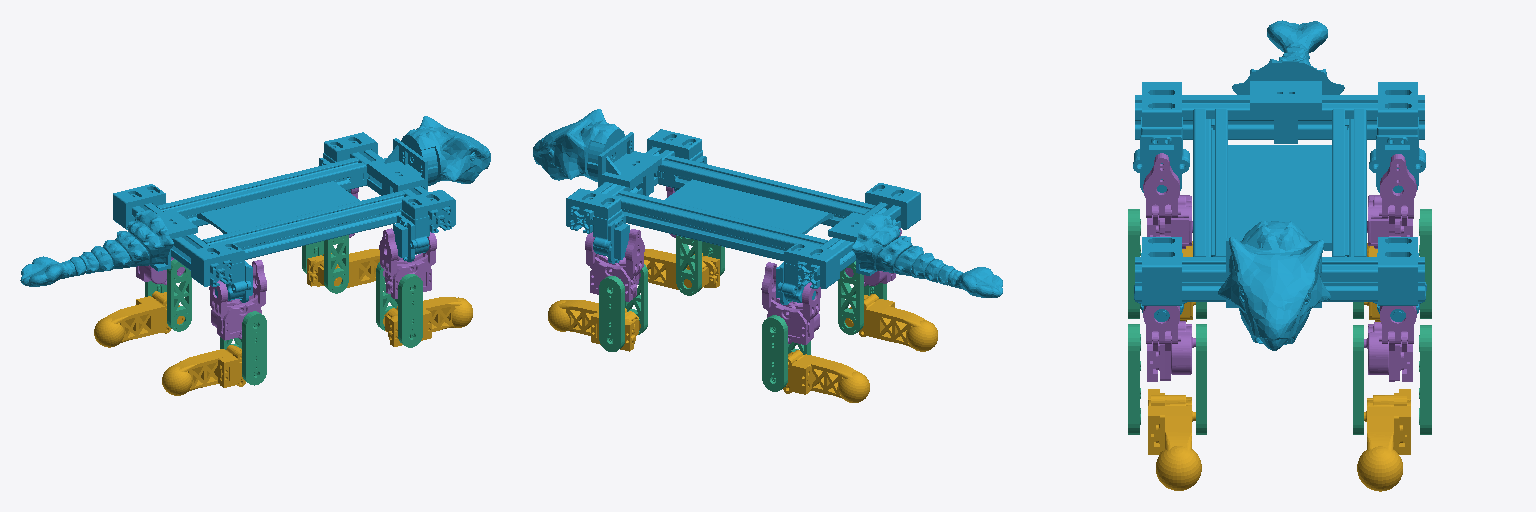
URDF robot description (FinalRemakeURDF.SLDASM):
<?xml version="1.0" encoding="utf-8"?>
<!-- This URDF was automatically created by SolidWorks to URDF Exporter! Originally created by Stephen Brawner (brawner@gmail.com) 
     Commit Version: 1.6.0-4-g7f85cfe  Build Version: 1.6.7995.38578
     For more information, please see http://wiki.ros.org/sw_urdf_exporter -->
<robot
  name="FinalRemakeURDF.SLDASM">
  <link
    name="Base_Link">
    <inertial>
      <origin
        xyz="0.020672 0.0001775 -0.00016057"
        rpy="0 0 0" />
      <mass
        value="1.8396" />
      <inertia
        ixx="0.0016537"
        ixy="-1.2805E-06"
        ixz="3.4583E-05"
        iyy="0.0026637"
        iyz="-2.9915E-06"
        izz="0.0037454" />
    </inertial>
    <visual>
      <origin
        xyz="0 0 0"
        rpy="0 0 0" />
      <geometry>
        <mesh
          filename="package://FinalRemakeURDF.SLDASM/meshes/Base_Link.STL" />
      </geometry>
      <material
        name="">
        <color
          rgba="0.188235 0.666667 0.827451 1" />
      </material>
    </visual>
    <collision>
      <origin
        xyz="0 0 0"
        rpy="0 0 0" />
      <geometry>
        <mesh
          filename="package://FinalRemakeURDF.SLDASM/meshes/Base_Link.STL" />
      </geometry>
    </collision>
  </link>
  <link
    name="FR_Hip_Link">
    <inertial>
      <origin
        xyz="2.8582E-05 0.0050339 -0.037076"
        rpy="0 0 0" />
      <mass
        value="0.11621" />
      <inertia
        ixx="2.2792E-05"
        ixy="2.5738E-07"
        ixz="7.4847E-08"
        iyy="3.7134E-05"
        iyz="-9.1967E-08"
        izz="2.723E-05" />
    </inertial>
    <visual>
      <origin
        xyz="0 0 0"
        rpy="0 0 0" />
      <geometry>
        <mesh
          filename="package://FinalRemakeURDF.SLDASM/meshes/FR_Hip_Link.STL" />
      </geometry>
      <material
        name="">
        <color
          rgba="0.658824 0.474510 0.788235 1" />
      </material>
    </visual>
    <collision>
      <origin
        xyz="0 0 0"
        rpy="0 0 0" />
      <geometry>
        <mesh
          filename="package://FinalRemakeURDF.SLDASM/meshes/FR_Hip_Link.STL" />
      </geometry>
    </collision>
  </link>
  <joint
    name="FR_Hip_Joint"
    type="revolute">
    <origin
      xyz="0.12775 -0.1018 -0.040652"
      rpy="0 0 0" />
    <parent
      link="Base_Link" />
    <child
      link="FR_Hip_Link" />
    <axis
      xyz="1 0 0" />
    <limit
      lower="-1.57079632679"
      upper="1.57079632679"
      effort="3.92266"
      velocity="10.4719755" />
  </joint>
  <link
    name="FR_Thigh_Link">
    <inertial>
      <origin
        xyz="-5.0003E-08 -0.0061714 -0.035007"
        rpy="0 0 0" />
      <mass
        value="0.062712" />
      <inertia
        ixx="4.2875E-05"
        ixy="-5.4726E-12"
        ixz="9.5949E-09"
        iyy="4.7968E-05"
        iyz="-1.2875E-10"
        izz="6.0779E-06" />
    </inertial>
    <visual>
      <origin
        xyz="0 0 0"
        rpy="0 0 0" />
      <geometry>
        <mesh
          filename="package://FinalRemakeURDF.SLDASM/meshes/FR_Thigh_Link.STL" />
      </geometry>
      <material
        name="">
        <color
          rgba="0.258824 0.705882 0.564706 1" />
      </material>
    </visual>
    <collision>
      <origin
        xyz="0 0 0"
        rpy="0 0 0" />
      <geometry>
        <mesh
          filename="package://FinalRemakeURDF.SLDASM/meshes/FR_Thigh_Link.STL" />
      </geometry>
    </collision>
  </link>
  <joint
    name="FR_Thigh_Joint"
    type="revolute">
    <origin
      xyz="-0.010143 0.0050417 -0.045931"
      rpy="0 0 0" />
    <parent
      link="FR_Hip_Link" />
    <child
      link="FR_Thigh_Link" />
    <axis
      xyz="0 1 0" />
    <limit
      lower="-1.57079632679"
      upper="1.57079632679"
      effort="3.92266"
      velocity="10.4719755" />
  </joint>
  <link
    name="FR_Foot_Link">
    <inertial>
      <origin
        xyz="0.042285 0.0053727 -0.0014211"
        rpy="0 0 0" />
      <mass
        value="0.15776" />
      <inertia
        ixx="2.8299E-05"
        ixy="1.7543E-06"
        ixz="6.7181E-06"
        iyy="0.00013787"
        iyz="-7.0463E-08"
        izz="0.00012969" />
    </inertial>
    <visual>
      <origin
        xyz="0 0 0"
        rpy="0 0 0" />
      <geometry>
        <mesh
          filename="package://FinalRemakeURDF.SLDASM/meshes/FR_Foot_Link.STL" />
      </geometry>
      <material
        name="">
        <color
          rgba="0.874510 0.674510 0.184314 1" />
      </material>
    </visual>
    <collision>
      <origin
        xyz="0 0 0"
        rpy="0 0 0" />
      <geometry>
        <mesh
          filename="package://FinalRemakeURDF.SLDASM/meshes/FR_Foot_Link.STL" />
      </geometry>
    </collision>
  </link>
  <joint
    name="FR_Foot_Joint"
    type="revolute">
    <origin
      xyz="0 0 -0.07"
      rpy="0 0 0" />
    <parent
      link="FR_Thigh_Link" />
    <child
      link="FR_Foot_Link" />
    <axis
      xyz="0 1 0" />
    <limit
      lower="-1.57079632679"
      upper="1.57079632679"
      effort="3.92266"
      velocity="10.4719755" />
  </joint>
  <link
    name="FL_Hip_Link">
    <inertial>
      <origin
        xyz="0.00022325 -0.0050353 -0.037386"
        rpy="0 0 0" />
      <mass
        value="0.11621" />
      <inertia
        ixx="2.2791E-05"
        ixy="-2.5729E-07"
        ixz="5.9205E-08"
        iyy="3.7134E-05"
        iyz="9.5564E-08"
        izz="2.7231E-05" />
    </inertial>
    <visual>
      <origin
        xyz="0 0 0"
        rpy="0 0 0" />
      <geometry>
        <mesh
          filename="package://FinalRemakeURDF.SLDASM/meshes/FL_Hip_Link.STL" />
      </geometry>
      <material
        name="">
        <color
          rgba="0.658824 0.474510 0.788235 1" />
      </material>
    </visual>
    <collision>
      <origin
        xyz="0 0 0"
        rpy="0 0 0" />
      <geometry>
        <mesh
          filename="package://FinalRemakeURDF.SLDASM/meshes/FL_Hip_Link.STL" />
      </geometry>
    </collision>
  </link>
  <joint
    name="FL_Hip_Joint"
    type="revolute">
    <origin
      xyz="0.12775 0.1018 -0.040652"
      rpy="0 0 0" />
    <parent
      link="Base_Link" />
    <child
      link="FL_Hip_Link" />
    <axis
      xyz="1 0 0" />
    <limit
      lower="-1.57079632679"
      upper="1.57079632679"
      effort="3.92266"
      velocity="10.4719755" />
  </joint>
  <link
    name="FL_Thigh_Link">
    <inertial>
      <origin
        xyz="5.0034E-08 0.0061714 -0.035007"
        rpy="0 0 0" />
      <mass
        value="0.062712" />
      <inertia
        ixx="4.2875E-05"
        ixy="-5.4696E-12"
        ixz="-9.5949E-09"
        iyy="4.7968E-05"
        iyz="1.2875E-10"
        izz="6.0779E-06" />
    </inertial>
    <visual>
      <origin
        xyz="0 0 0"
        rpy="0 0 0" />
      <geometry>
        <mesh
          filename="package://FinalRemakeURDF.SLDASM/meshes/FL_Thigh_Link.STL" />
      </geometry>
      <material
        name="">
        <color
          rgba="0.258824 0.705882 0.564706 1" />
      </material>
    </visual>
    <collision>
      <origin
        xyz="0 0 0"
        rpy="0 0 0" />
      <geometry>
        <mesh
          filename="package://FinalRemakeURDF.SLDASM/meshes/FL_Thigh_Link.STL" />
      </geometry>
    </collision>
  </link>
  <joint
    name="FL_Thigh_Joint"
    type="revolute">
    <origin
      xyz="-0.00985 -0.0050417 -0.046234"
      rpy="0 0 0" />
    <parent
      link="FL_Hip_Link" />
    <child
      link="FL_Thigh_Link" />
    <axis
      xyz="0 1 0" />
    <limit
      lower="-1.57079632679"
      upper="1.57079632679"
      effort="3.92266"
      velocity="10.4719755" />
  </joint>
  <link
    name="FL_Foot_Link">
    <inertial>
      <origin
        xyz="0.042285 -0.0062428 -0.0014211"
        rpy="0 0 0" />
      <mass
        value="0.15776" />
      <inertia
        ixx="2.8299E-05"
        ixy="-1.7544E-06"
        ixz="6.718E-06"
        iyy="0.00013787"
        iyz="7.0446E-08"
        izz="0.00012969" />
    </inertial>
    <visual>
      <origin
        xyz="0 0 0"
        rpy="0 0 0" />
      <geometry>
        <mesh
          filename="package://FinalRemakeURDF.SLDASM/meshes/FL_Foot_Link.STL" />
      </geometry>
      <material
        name="">
        <color
          rgba="0.874510 0.674510 0.184314 1" />
      </material>
    </visual>
    <collision>
      <origin
        xyz="0 0 0"
        rpy="0 0 0" />
      <geometry>
        <mesh
          filename="package://FinalRemakeURDF.SLDASM/meshes/FL_Foot_Link.STL" />
      </geometry>
    </collision>
  </link>
  <joint
    name="FL_Foot_Joint"
    type="revolute">
    <origin
      xyz="0 0 -0.07"
      rpy="0 0 0" />
    <parent
      link="FL_Thigh_Link" />
    <child
      link="FL_Foot_Link" />
    <axis
      xyz="0 1 0" />
    <limit
      lower="-1.57079632679"
      upper="1.57079632679"
      effort="3.92266"
      velocity="10.4719755" />
  </joint>
  <link
    name="BR_Hip_Link">
    <inertial>
      <origin
        xyz="0.0012423 0.0050353 -0.036602"
        rpy="0 0 0" />
      <mass
        value="0.11621" />
      <inertia
        ixx="2.2796E-05"
        ixy="-2.5574E-07"
        ixz="-2.0133E-07"
        iyy="3.7134E-05"
        iyz="-9.9698E-08"
        izz="2.7226E-05" />
    </inertial>
    <visual>
      <origin
        xyz="0 0 0"
        rpy="0 0 0" />
      <geometry>
        <mesh
          filename="package://FinalRemakeURDF.SLDASM/meshes/BR_Hip_Link.STL" />
      </geometry>
      <material
        name="">
        <color
          rgba="0.658824 0.474510 0.788235 1" />
      </material>
    </visual>
    <collision>
      <origin
        xyz="0 0 0"
        rpy="0 0 0" />
      <geometry>
        <mesh
          filename="package://FinalRemakeURDF.SLDASM/meshes/BR_Hip_Link.STL" />
      </geometry>
    </collision>
  </link>
  <joint
    name="BR_Hip_Joint"
    type="revolute">
    <origin
      xyz="-0.12875 -0.1018 -0.040742"
      rpy="0 0 0" />
    <parent
      link="Base_Link" />
    <child
      link="BR_Hip_Link" />
    <axis
      xyz="1 0 0" />
    <limit
      lower="-1.57079632679"
      upper="1.57079632679"
      effort="3.92266"
      velocity="10.4719755" />
  </joint>
  <link
    name="BR_Thigh_Link">
    <inertial>
      <origin
        xyz="2.9465E-06 -0.0061714 -0.035007"
        rpy="0 0 0" />
      <mass
        value="0.062712" />
      <inertia
        ixx="4.2875E-05"
        ixy="-5.4616E-12"
        ixz="1.2745E-08"
        iyy="4.7968E-05"
        iyz="-1.2875E-10"
        izz="6.0779E-06" />
    </inertial>
    <visual>
      <origin
        xyz="0 0 0"
        rpy="0 0 0" />
      <geometry>
        <mesh
          filename="package://FinalRemakeURDF.SLDASM/meshes/BR_Thigh_Link.STL" />
      </geometry>
      <material
        name="">
        <color
          rgba="0.258824 0.705882 0.564706 1" />
      </material>
    </visual>
    <collision>
      <origin
        xyz="0 0 0"
        rpy="0 0 0" />
      <geometry>
        <mesh
          filename="package://FinalRemakeURDF.SLDASM/meshes/BR_Thigh_Link.STL" />
      </geometry>
    </collision>
  </link>
  <joint
    name="BR_Thigh_Joint"
    type="revolute">
    <origin
      xyz="0.011497 0.0050417 -0.045293"
      rpy="0 0 0" />
    <parent
      link="BR_Hip_Link" />
    <child
      link="BR_Thigh_Link" />
    <axis
      xyz="0 -1 0" />
    <limit
      lower="-1.57079632679"
      upper="1.57079632679"
      effort="3.92266"
      velocity="10.4719755" />
  </joint>
  <link
    name="BR_Foot_Link">
    <inertial>
      <origin
        xyz="-0.042285 0.0062428 -0.0014211"
        rpy="0 0 0" />
      <mass
        value="0.15776" />
      <inertia
        ixx="2.8299E-05"
        ixy="-1.7544E-06"
        ixz="-6.718E-06"
        iyy="0.00013787"
        iyz="-7.0446E-08"
        izz="0.00012969" />
    </inertial>
    <visual>
      <origin
        xyz="0 0 0"
        rpy="0 0 0" />
      <geometry>
        <mesh
          filename="package://FinalRemakeURDF.SLDASM/meshes/BR_Foot_Link.STL" />
      </geometry>
      <material
        name="">
        <color
          rgba="0.874510 0.674510 0.184314 1" />
      </material>
    </visual>
    <collision>
      <origin
        xyz="0 0 0"
        rpy="0 0 0" />
      <geometry>
        <mesh
          filename="package://FinalRemakeURDF.SLDASM/meshes/BR_Foot_Link.STL" />
      </geometry>
    </collision>
  </link>
  <joint
    name="BR_Foot_Joint"
    type="revolute">
    <origin
      xyz="0 0 -0.07"
      rpy="0 0 0" />
    <parent
      link="BR_Thigh_Link" />
    <child
      link="BR_Foot_Link" />
    <axis
      xyz="0 -1 0" />
    <limit
      lower="-1.57079632679"
      upper="1.57079632679"
      effort="3.92266"
      velocity="10.4719755" />
  </joint>
  <link
    name="BL_Hip_Link">
    <inertial>
      <origin
        xyz="-2.8582E-05 -0.0050339 -0.037166"
        rpy="0 0 0" />
      <mass
        value="0.11621" />
      <inertia
        ixx="2.2792E-05"
        ixy="2.5738E-07"
        ixz="-7.4847E-08"
        iyy="3.7134E-05"
        iyz="9.1967E-08"
        izz="2.723E-05" />
    </inertial>
    <visual>
      <origin
        xyz="0 0 0"
        rpy="0 0 0" />
      <geometry>
        <mesh
          filename="package://FinalRemakeURDF.SLDASM/meshes/BL_Hip_Link.STL" />
      </geometry>
      <material
        name="">
        <color
          rgba="0.658824 0.474510 0.788235 1" />
      </material>
    </visual>
    <collision>
      <origin
        xyz="0 0 0"
        rpy="0 0 0" />
      <geometry>
        <mesh
          filename="package://FinalRemakeURDF.SLDASM/meshes/BL_Hip_Link.STL" />
      </geometry>
    </collision>
  </link>
  <joint
    name="BL_Hip_Joint"
    type="revolute">
    <origin
      xyz="-0.12875 0.1018 -0.040652"
      rpy="0 0 0" />
    <parent
      link="Base_Link" />
    <child
      link="BL_Hip_Link" />
    <axis
      xyz="1 0 0" />
    <limit
      lower="-1.57079632679"
      upper="1.57079632679"
      effort="3.92266"
      velocity="10.4719755" />
  </joint>
  <link
    name="BL_Thigh_Link">
    <inertial>
      <origin
        xyz="5.0034E-08 0.0053296 -0.035007"
        rpy="0 0 0" />
      <mass
        value="0.062712" />
      <inertia
        ixx="4.2875E-05"
        ixy="-5.4696E-12"
        ixz="-9.5949E-09"
        iyy="4.7968E-05"
        iyz="1.2875E-10"
        izz="6.0779E-06" />
    </inertial>
    <visual>
      <origin
        xyz="0 0 0"
        rpy="0 0 0" />
      <geometry>
        <mesh
          filename="package://FinalRemakeURDF.SLDASM/meshes/BL_Thigh_Link.STL" />
      </geometry>
      <material
        name="">
        <color
          rgba="0.258824 0.705882 0.564706 1" />
      </material>
    </visual>
    <collision>
      <origin
        xyz="0 0 0"
        rpy="0 0 0" />
      <geometry>
        <mesh
          filename="package://FinalRemakeURDF.SLDASM/meshes/BL_Thigh_Link.STL" />
      </geometry>
    </collision>
  </link>
  <joint
    name="BL_Thigh_Joint"
    type="revolute">
    <origin
      xyz="0.010143 -0.0042 -0.046021"
      rpy="0 0 0" />
    <parent
      link="BL_Hip_Link" />
    <child
      link="BL_Thigh_Link" />
    <axis
      xyz="0 -1 0" />
    <limit
      lower="-1.57079632679"
      upper="1.57079632679"
      effort="3.92266"
      velocity="10.4719755" />
  </joint>
  <link
    name="BL_Foot_Link">
    <inertial>
      <origin
        xyz="-0.042266 -0.0054259 -0.0013891"
        rpy="0 0 0" />
      <mass
        value="0.15776" />
      <inertia
        ixx="2.8299E-05"
        ixy="1.7543E-06"
        ixz="-6.7181E-06"
        iyy="0.00013787"
        iyz="7.0463E-08"
        izz="0.00012969" />
    </inertial>
    <visual>
      <origin
        xyz="0 0 0"
        rpy="0 0 0" />
      <geometry>
        <mesh
          filename="package://FinalRemakeURDF.SLDASM/meshes/BL_Foot_Link.STL" />
      </geometry>
      <material
        name="">
        <color
          rgba="0.874510 0.674510 0.184314 1" />
      </material>
    </visual>
    <collision>
      <origin
        xyz="0 0 0"
        rpy="0 0 0" />
      <geometry>
        <mesh
          filename="package://FinalRemakeURDF.SLDASM/meshes/BL_Foot_Link.STL" />
      </geometry>
    </collision>
  </link>
  <joint
    name="BL_Foot_Joint"
    type="revolute">
    <origin
      xyz="0 0 -0.07"
      rpy="0 0 0" />
    <parent
      link="BL_Thigh_Link" />
    <child
      link="BL_Foot_Link" />
    <axis
      xyz="0 -1 0" />
    <limit
      lower="-1.57079632679"
      upper="1.57079632679"
      effort="3.92266"
      velocity="10.4719755" />
  </joint>
</robot>

--- Render facts (derived) ---
The picture shows the robot from 3 angles, left to right: view 1: azimuth 30°, elevation 25°; view 2: azimuth 150°, elevation 25°; view 3: azimuth 270°, elevation 25°; orthographic projection.
Robot: FinalRemakeURDF.SLDASM — 13 links, 12 joints (12 revolute); root link Base_Link; default pose: all joints at 0.
Links seen in each view (by area): view 1: Base_Link, BR_Foot_Link, BL_Foot_Link, FR_Thigh_Link, BR_Hip_Link, FR_Foot_Link, FR_Hip_Link, BR_Thigh_Link, BL_Thigh_Link, FL_Thigh_Link, FL_Foot_Link; view 2: Base_Link, BL_Foot_Link, BR_Foot_Link, FL_Thigh_Link, BL_Hip_Link, FL_Foot_Link, FL_Hip_Link, BL_Thigh_Link, BR_Thigh_Link, FR_Thigh_Link, FR_Foot_Link; view 3: Base_Link, FL_Foot_Link, FR_Foot_Link, BR_Hip_Link, BL_Hip_Link, FR_Hip_Link, FL_Hip_Link, FR_Thigh_Link, FL_Thigh_Link, BR_Thigh_Link, BL_Thigh_Link.
Boxes of the visible links, x1,y1,x2,y2 form: Base_Link: (20, 116, 490, 302); BR_Foot_Link: (162, 345, 245, 395); BL_Foot_Link: (94, 291, 184, 347); FR_Thigh_Link: (376, 262, 422, 347); BR_Hip_Link: (209, 260, 266, 340); FR_Foot_Link: (383, 297, 472, 346); FR_Hip_Link: (379, 228, 436, 298); BR_Thigh_Link: (220, 311, 266, 385); BL_Thigh_Link: (145, 259, 191, 331); FL_Thigh_Link: (302, 235, 348, 293); FL_Foot_Link: (307, 249, 379, 287); Base_Link: (533, 109, 1002, 304); BL_Foot_Link: (783, 350, 869, 402); BR_Foot_Link: (845, 294, 937, 351); FL_Thigh_Link: (599, 264, 647, 351); BL_Hip_Link: (761, 262, 820, 344); FL_Foot_Link: (548, 300, 640, 351); FL_Hip_Link: (585, 229, 644, 301); BL_Thigh_Link: (762, 301, 810, 391); BR_Thigh_Link: (838, 261, 886, 334); FR_Thigh_Link: (676, 235, 724, 295); FR_Foot_Link: (644, 249, 719, 289); Base_Link: (1133, 20, 1426, 350); FL_Foot_Link: (1357, 389, 1410, 491); FR_Foot_Link: (1148, 389, 1201, 490); BR_Hip_Link: (1143, 153, 1192, 248); BL_Hip_Link: (1367, 154, 1416, 248); FR_Hip_Link: (1143, 306, 1195, 381); FL_Hip_Link: (1364, 306, 1416, 381); FR_Thigh_Link: (1128, 324, 1206, 434); FL_Thigh_Link: (1353, 325, 1431, 434); BR_Thigh_Link: (1128, 209, 1206, 318); BL_Thigh_Link: (1353, 209, 1431, 318).
Size in the robot's own frame: 0.6922 by 0.2614 by 0.2506 metres.
13 mesh visuals loaded from 13 distinct referenced files (13 binary STL).
